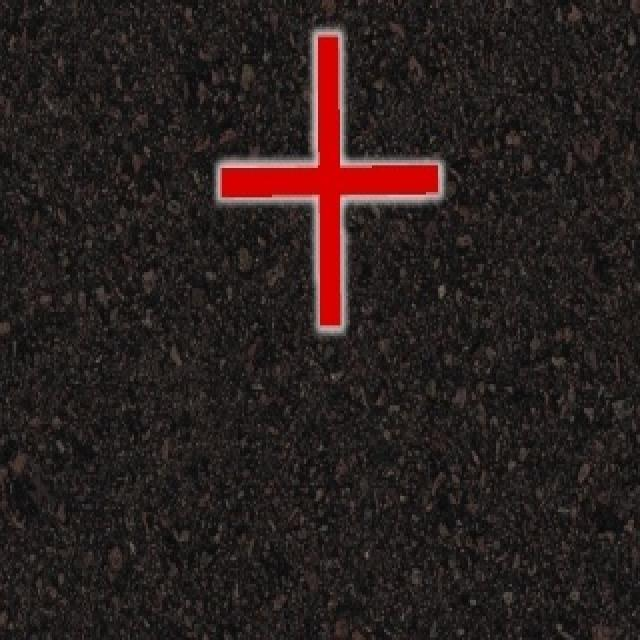x_marker: (219, 33, 439, 327)
